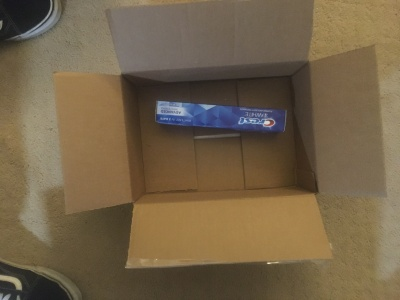innerbox: (120, 73, 319, 196)
outerbox: (59, 8, 384, 268)
product: (155, 98, 288, 135)
